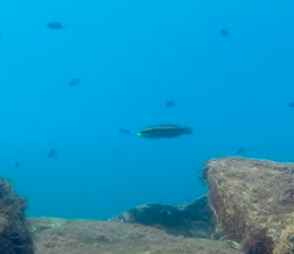smallfish: (132, 119, 195, 143)
